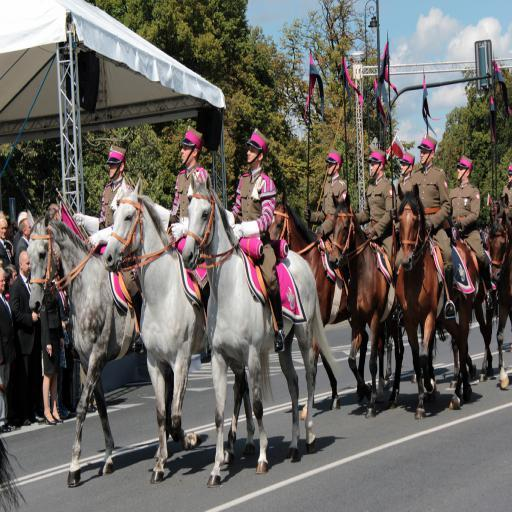horse: (26, 173, 511, 490), (101, 174, 272, 484), (180, 169, 336, 488), (27, 206, 173, 488), (268, 188, 394, 424), (326, 186, 438, 420), (393, 182, 475, 419), (448, 236, 494, 388), (486, 208, 512, 388)
